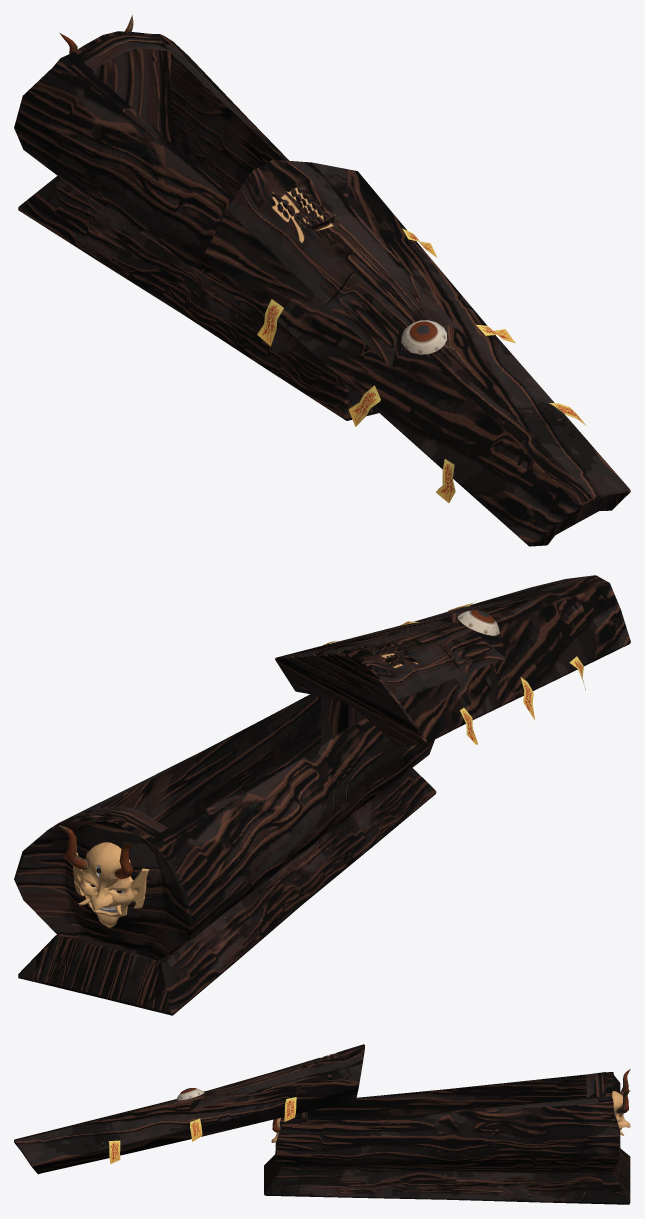
File: coffin.fbx
3 views of the same model, one above another, from view 1: azimuth 30°, elevation 25°; view 2: azimuth 150°, elevation 25°; view 3: azimuth 270°, elevation 25° (orthographic). The views are drawn at different scales.
Visible parts, largest first — view 1: polySurface43, polySurface1, pCube1, pSphere5; view 2: polySurface1, polySurface43, pCube1, pCube4, pCone2, pSphere5, pCube5; view 3: polySurface1, polySurface43, pCube1, pCube4, pCone2, polySurface44, polySurface46.
Boxes of the visible parts, bbox=[...] form: polySurface43: bbox=[203, 159, 630, 546]; polySurface1: bbox=[14, 31, 300, 343]; pCube1: bbox=[18, 176, 378, 420]; pSphere5: bbox=[401, 320, 446, 354]; polySurface1: bbox=[14, 694, 434, 961]; polySurface43: bbox=[275, 575, 630, 748]; pCube1: bbox=[18, 768, 436, 1015]; pCube4: bbox=[80, 842, 134, 927]; pCone2: bbox=[58, 825, 133, 879]; pSphere5: bbox=[457, 610, 499, 635]; pCube5: bbox=[73, 852, 149, 908]; polySurface1: bbox=[275, 1072, 620, 1173]; polySurface43: bbox=[14, 1044, 364, 1174]; pCube1: bbox=[264, 1149, 630, 1204]; pCube4: bbox=[612, 1091, 630, 1129]; pCone2: bbox=[616, 1068, 630, 1113]; polySurface44: bbox=[284, 1097, 296, 1121]; polySurface46: bbox=[108, 1140, 120, 1164].
Size of the model in its own units: 3.93 by 3.63 by 16.58.
6 materials, 6 textured.
